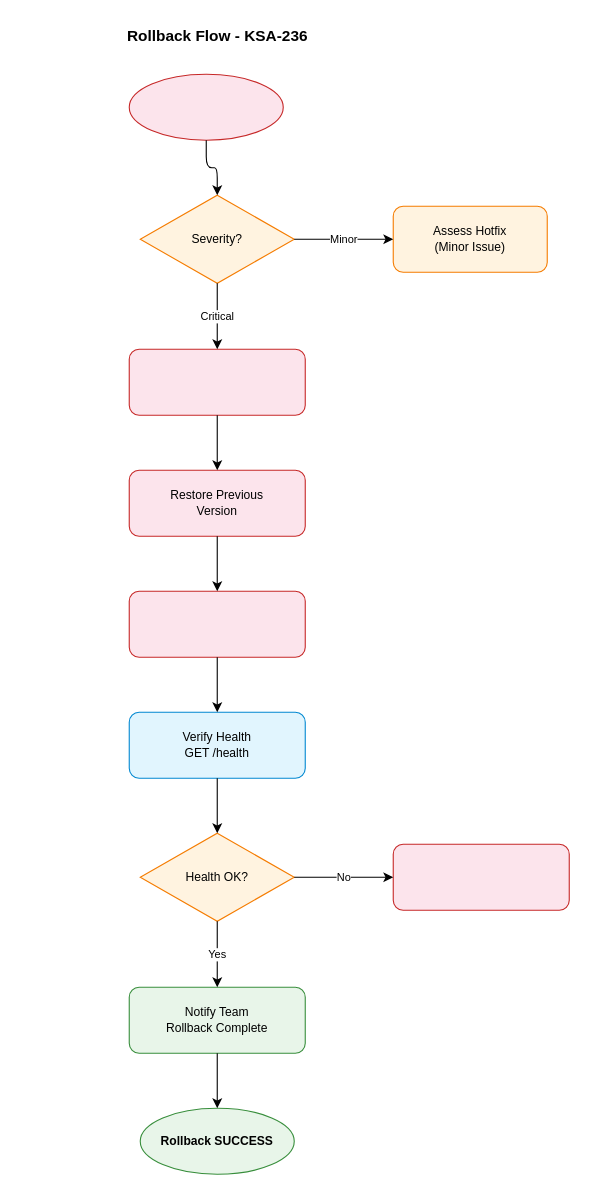
Image size: 589x1194. Some labels were removed from this diagram. Each missing label, with the box of its shape:
ESCALATE Manual Intervention: (392, 843, 569, 910)
Issue Detected: (128, 73, 283, 140)
Start Previous Service: (128, 590, 305, 657)
Stop New Service: (128, 348, 305, 415)
